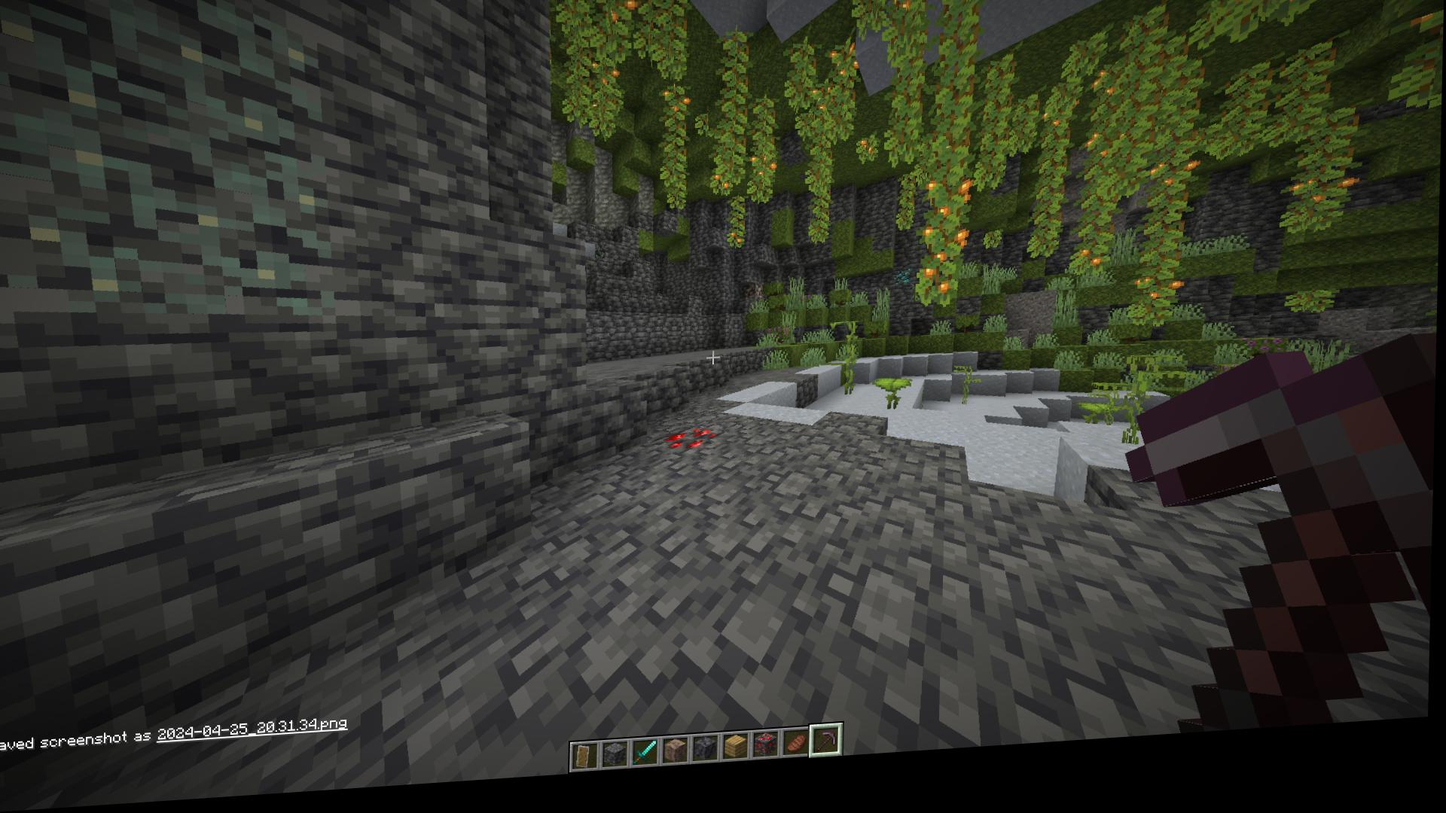diamond ore: (893, 280, 915, 300)
redstone ore: (666, 433, 722, 465)
